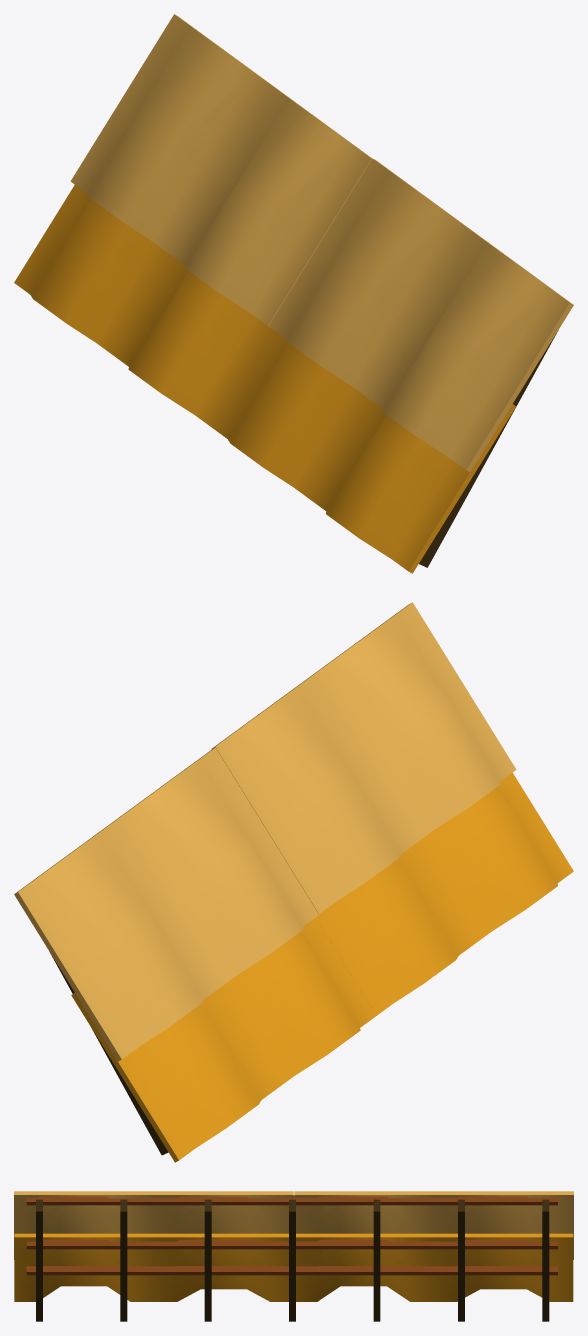
Rendered from krov_nad_kosi.FBX.
3 renders of one model, top to bottom at view 1: azimuth 30°, elevation 25°; view 2: azimuth 150°, elevation 25°; view 3: azimuth 270°, elevation 25°, orthographic. The views are drawn at different scales.
Parts seen in each view (by area): view 1: Box545, Box546, Box548; view 2: Box545, Box546, Box548; view 3: Box546, Box545, Box547, Box548.
Boxes of the visible parts, x1=… form: Box545: x1=70, y1=14, x2=573, y2=471; Box546: x1=14, y1=185, x2=516, y2=573; Box548: x1=419, y1=330, x2=558, y2=567; Box545: x1=14, y1=602, x2=516, y2=1061; Box546: x1=71, y1=772, x2=573, y2=1162; Box548: x1=50, y1=953, x2=168, y2=1155; Box546: x1=14, y1=1233, x2=573, y2=1301; Box545: x1=14, y1=1191, x2=573, y2=1259; Box547: x1=26, y1=1196, x2=557, y2=1275; Box548: x1=36, y1=1199, x2=549, y2=1321.
Bounding box in the file's own units: 114 × 137 × 401.
